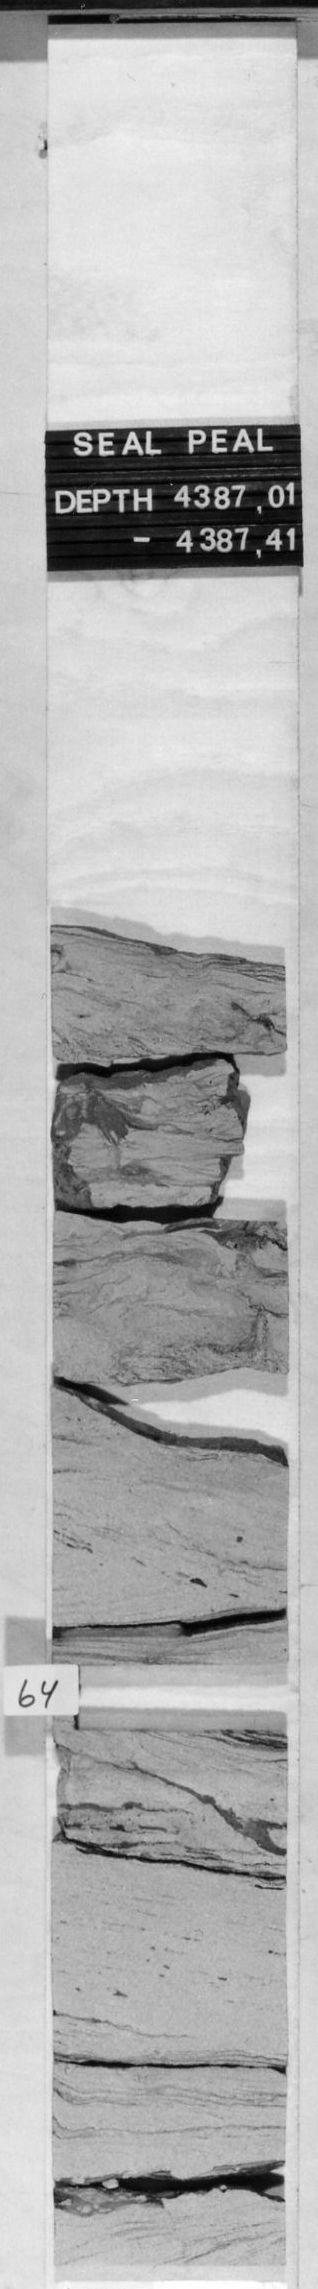hplug: (58, 1645, 289, 1752)
